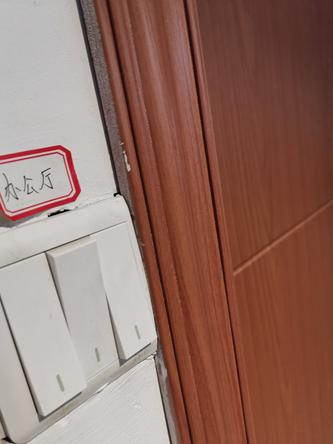switch: (1, 252, 84, 419), (51, 237, 125, 379), (92, 221, 159, 359)
